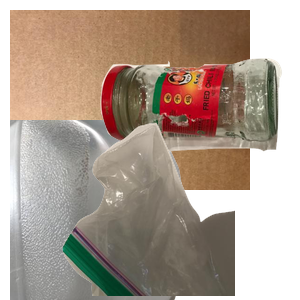cardboard: (10, 10, 250, 190)
glass: (98, 56, 300, 201)
plastic: (10, 120, 190, 300)
trash: (60, 120, 300, 300)
